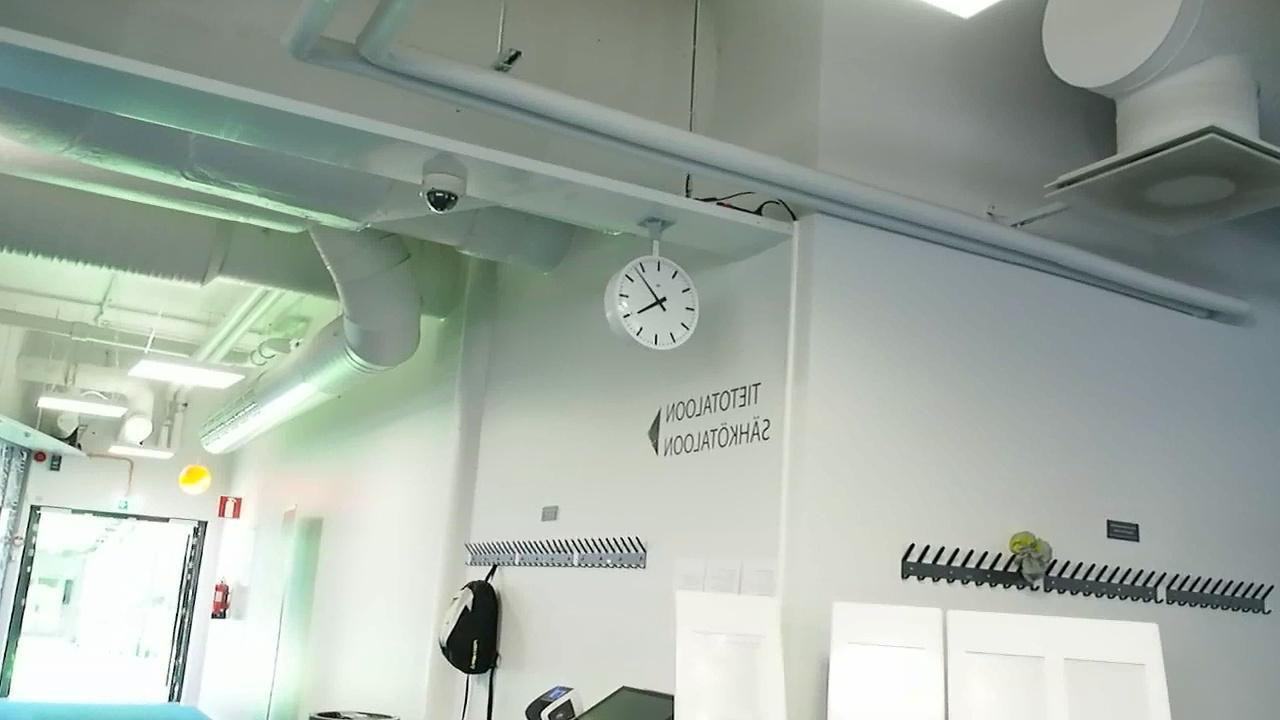clock: (606, 256, 701, 353)
